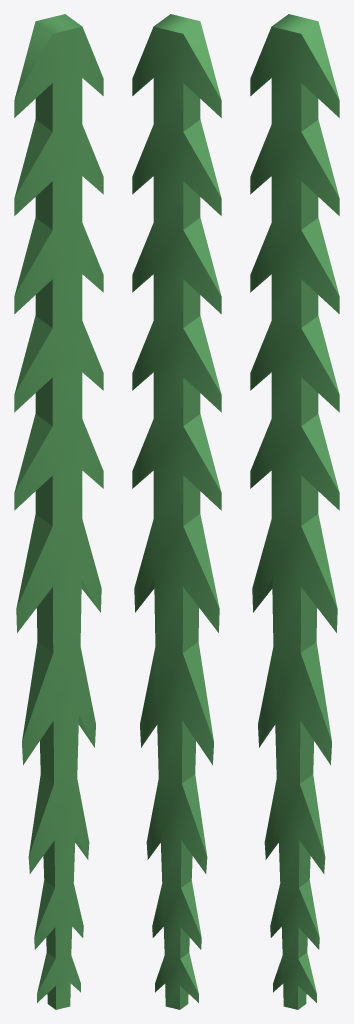
Rendered from A_WillowLeaf.fbx.
3 renders of one model, left to right at view 1: azimuth 30°, elevation 25°; view 2: azimuth 150°, elevation 25°; view 3: azimuth 330°, elevation 25°, orthographic.
Visible parts, largest first — view 1: pCube1; view 2: pCube1; view 3: pCube1.
Part boxes in pixels (x1,y1,x2,y2): pCube1: (14, 14, 103, 1009); pCube1: (132, 14, 221, 1009); pCube1: (250, 14, 339, 1009).
Size of the model in its own units: 5.93 by 62.21 by 1.98.
